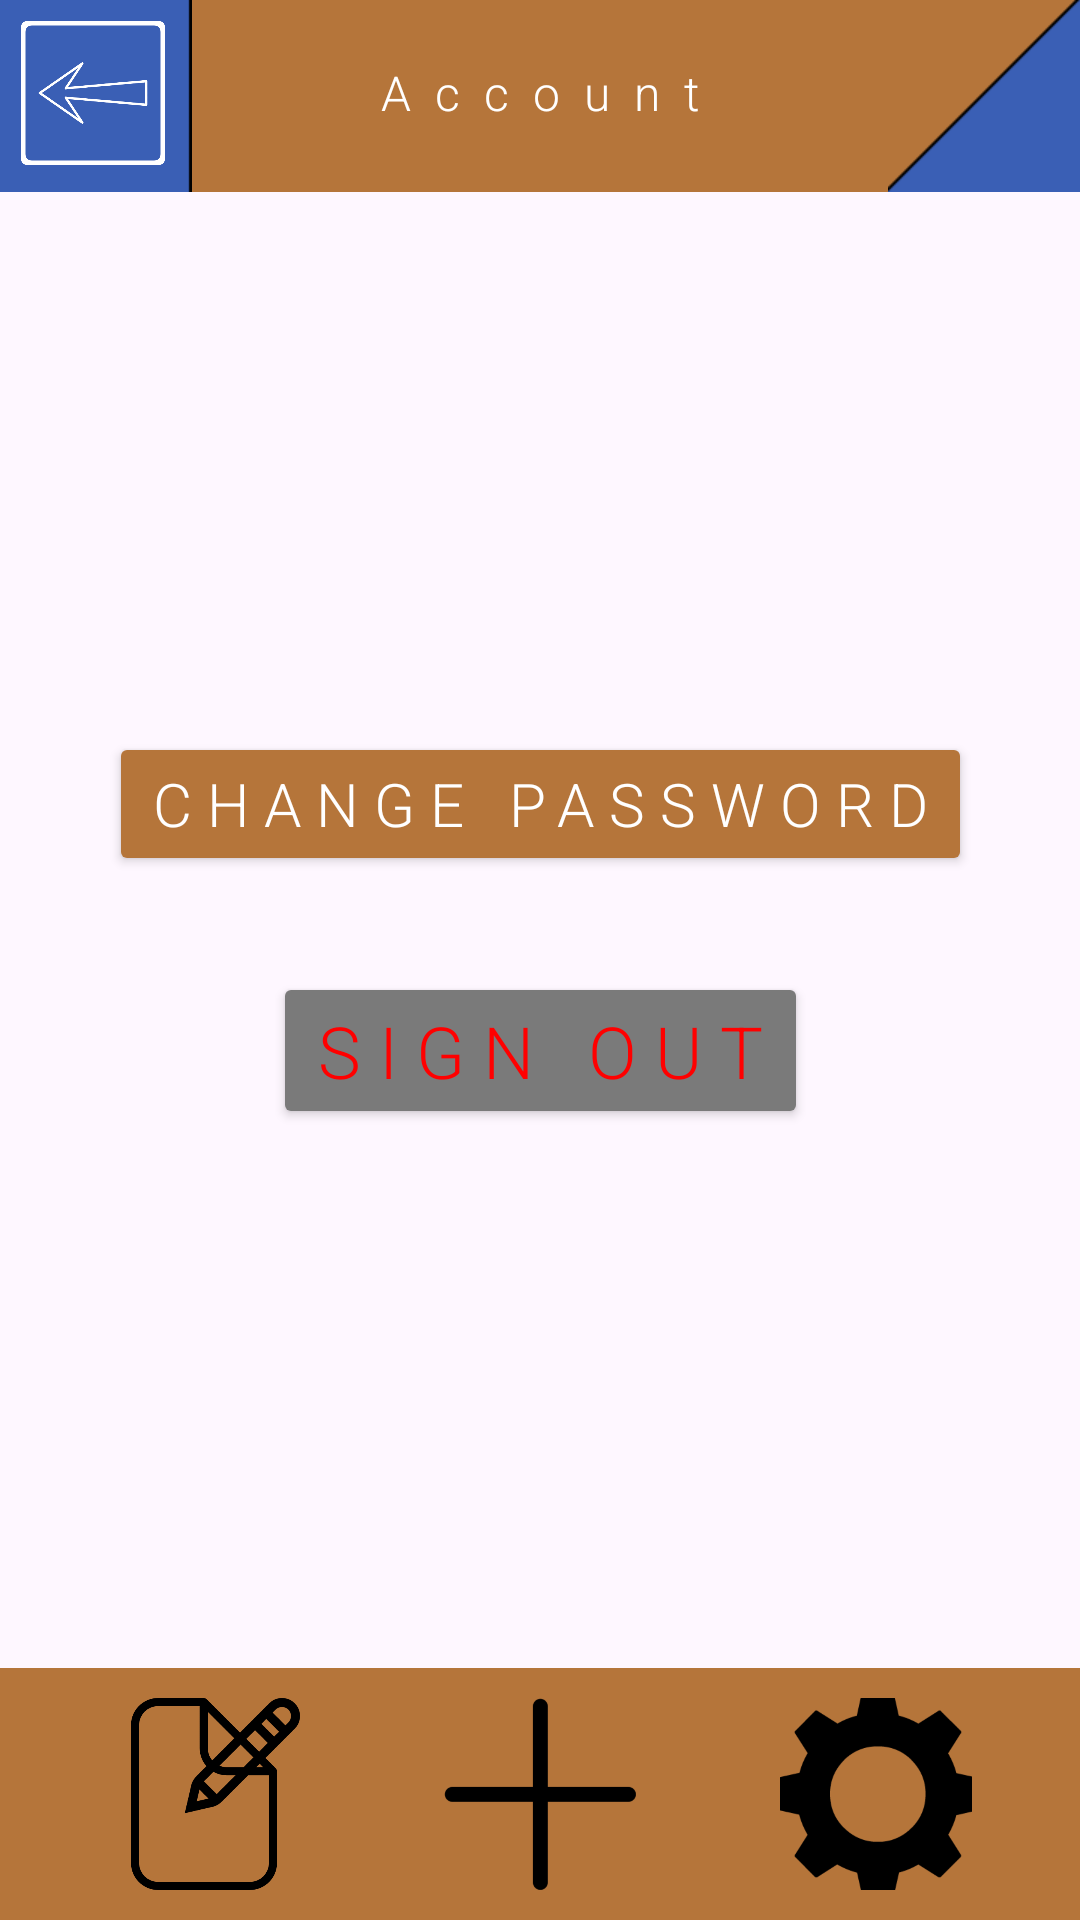

Icon click points for this 1080x1920 phone screenshot, format [x,y]:
create booking: [540,1794]
settings: [876,1794]
